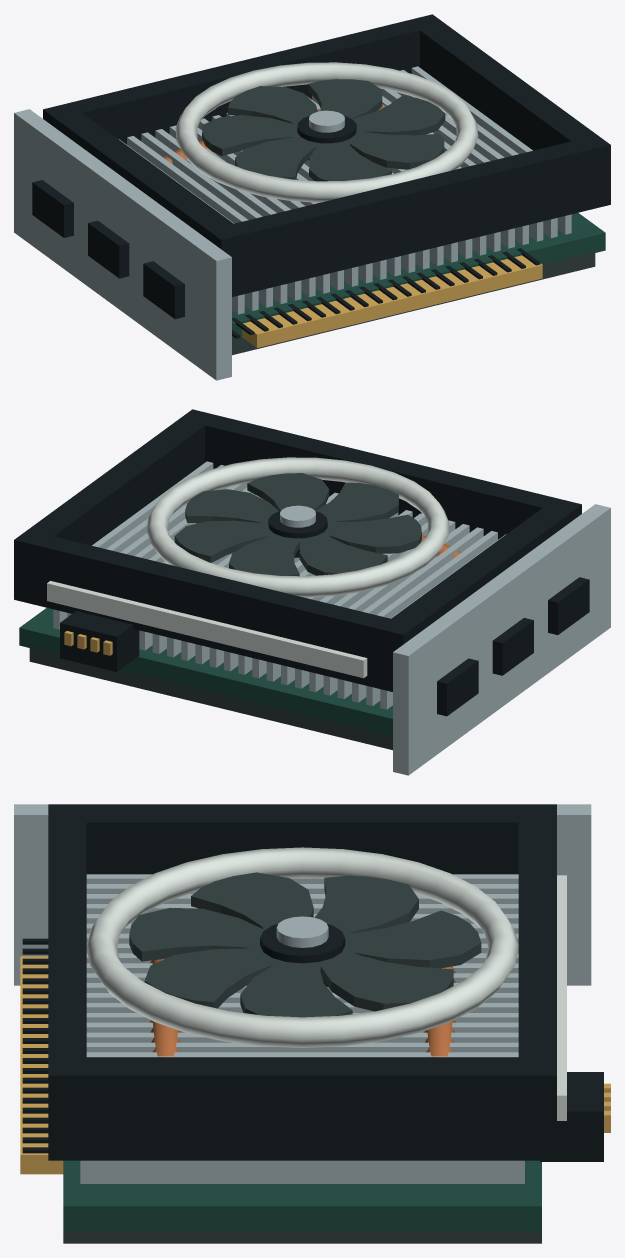
File: gpu-compact.glb
3 renders of one model, top to bottom at view 1: azimuth 30°, elevation 25°; view 2: azimuth 150°, elevation 25°; view 3: azimuth 270°, elevation 25°, orthographic. The views are drawn at different scales.
Parts seen in each view (by area): view 1: Rubber and ABS, Brushed aluminium, Anodized graphite, Ceramic white, gpu-compact, Contacts, fan-rotor; view 2: Rubber and ABS, Brushed aluminium, Ceramic white, Anodized graphite, gpu-compact, fan-rotor, Contacts; view 3: Rubber and ABS, Brushed aluminium, Anodized graphite, Ceramic white, gpu-compact, Contacts, fan-rotor, Copper heat pipes.
Part boxes in pixels (x1,y1,x2,y2): Rubber and ABS: (32, 14, 610, 338); Brushed aluminium: (14, 66, 571, 380); Anodized graphite: (202, 79, 445, 181); Ceramic white: (175, 62, 478, 202); gpu-compact: (232, 213, 605, 355); Contacts: (242, 255, 542, 347); fan-rotor: (297, 110, 356, 160); Rubber and ABS: (14, 409, 589, 716); Brushed aluminium: (53, 461, 610, 775); Ceramic white: (47, 457, 449, 678); Anodized graphite: (174, 473, 421, 576); gpu-compact: (19, 608, 392, 750); fan-rotor: (268, 505, 327, 557); Contacts: (64, 631, 112, 655); Rubber and ABS: (22, 804, 603, 1161); Brushed aluminium: (14, 804, 591, 1183); Anodized graphite: (129, 872, 481, 1017); Ceramic white: (86, 847, 566, 1120); gpu-compact: (63, 1160, 541, 1243); Contacts: (20, 956, 610, 1174); fan-rotor: (260, 916, 345, 986); Copper heat pipes: (149, 958, 455, 1057).
Bounding box in the file's own units: 1.28 × 0.4068 × 1.12.
